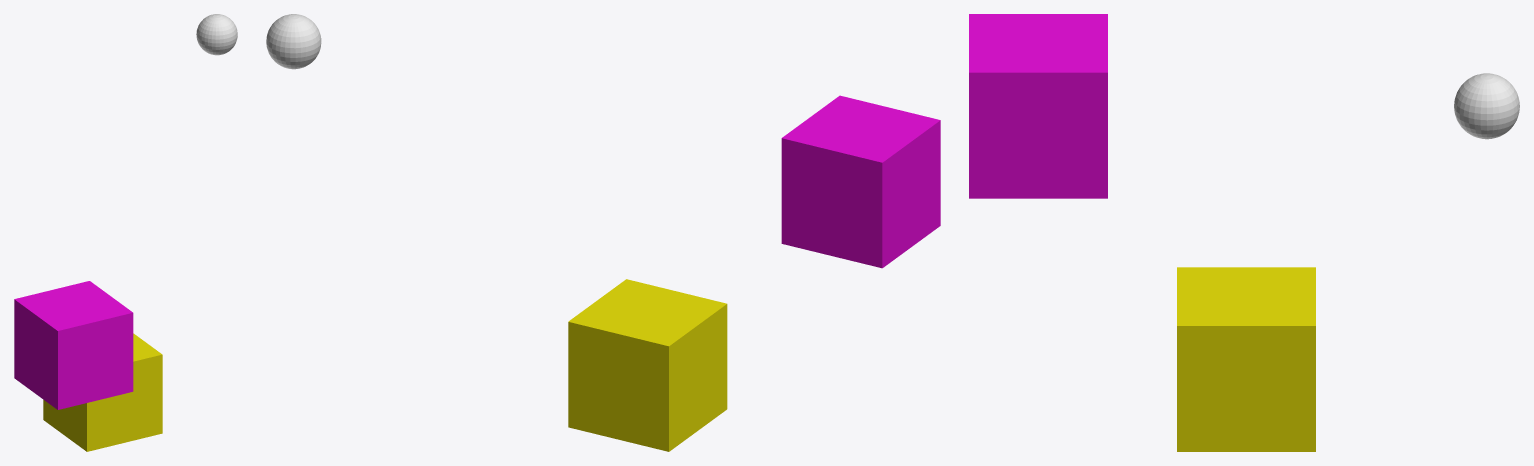
Rendered from scnea_blender_test.dae.
The picture shows the model from 3 angles, left to right: view 1: azimuth 30°, elevation 25°; view 2: azimuth 150°, elevation 25°; view 3: azimuth 270°, elevation 25°; orthographic projection. The views are drawn at different scales.
Parts seen in each view (by area): view 1: Cube.001, Cube.002, Sphere; view 2: Cube.001, Cube.002, Sphere; view 3: Cube.001, Cube.002, Sphere.
Boxes of the visible parts, <box> form: Cube.001: <box>14,281,133,409</box>; Cube.002: <box>43,333,162,451</box>; Sphere: <box>196,14,237,55</box>; Cube.001: <box>781,95,940,268</box>; Cube.002: <box>568,279,727,451</box>; Sphere: <box>266,14,321,69</box>; Cube.001: <box>969,14,1107,198</box>; Cube.002: <box>1177,267,1315,451</box>; Sphere: <box>1454,73,1519,139</box>.
Size of the model in its own units: 8.99 by 7.92 by 7.83.
